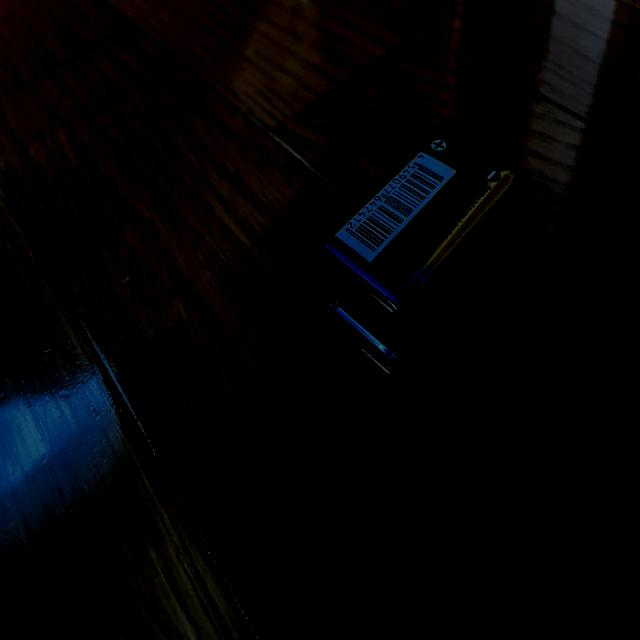9V: (320, 133, 520, 371)
